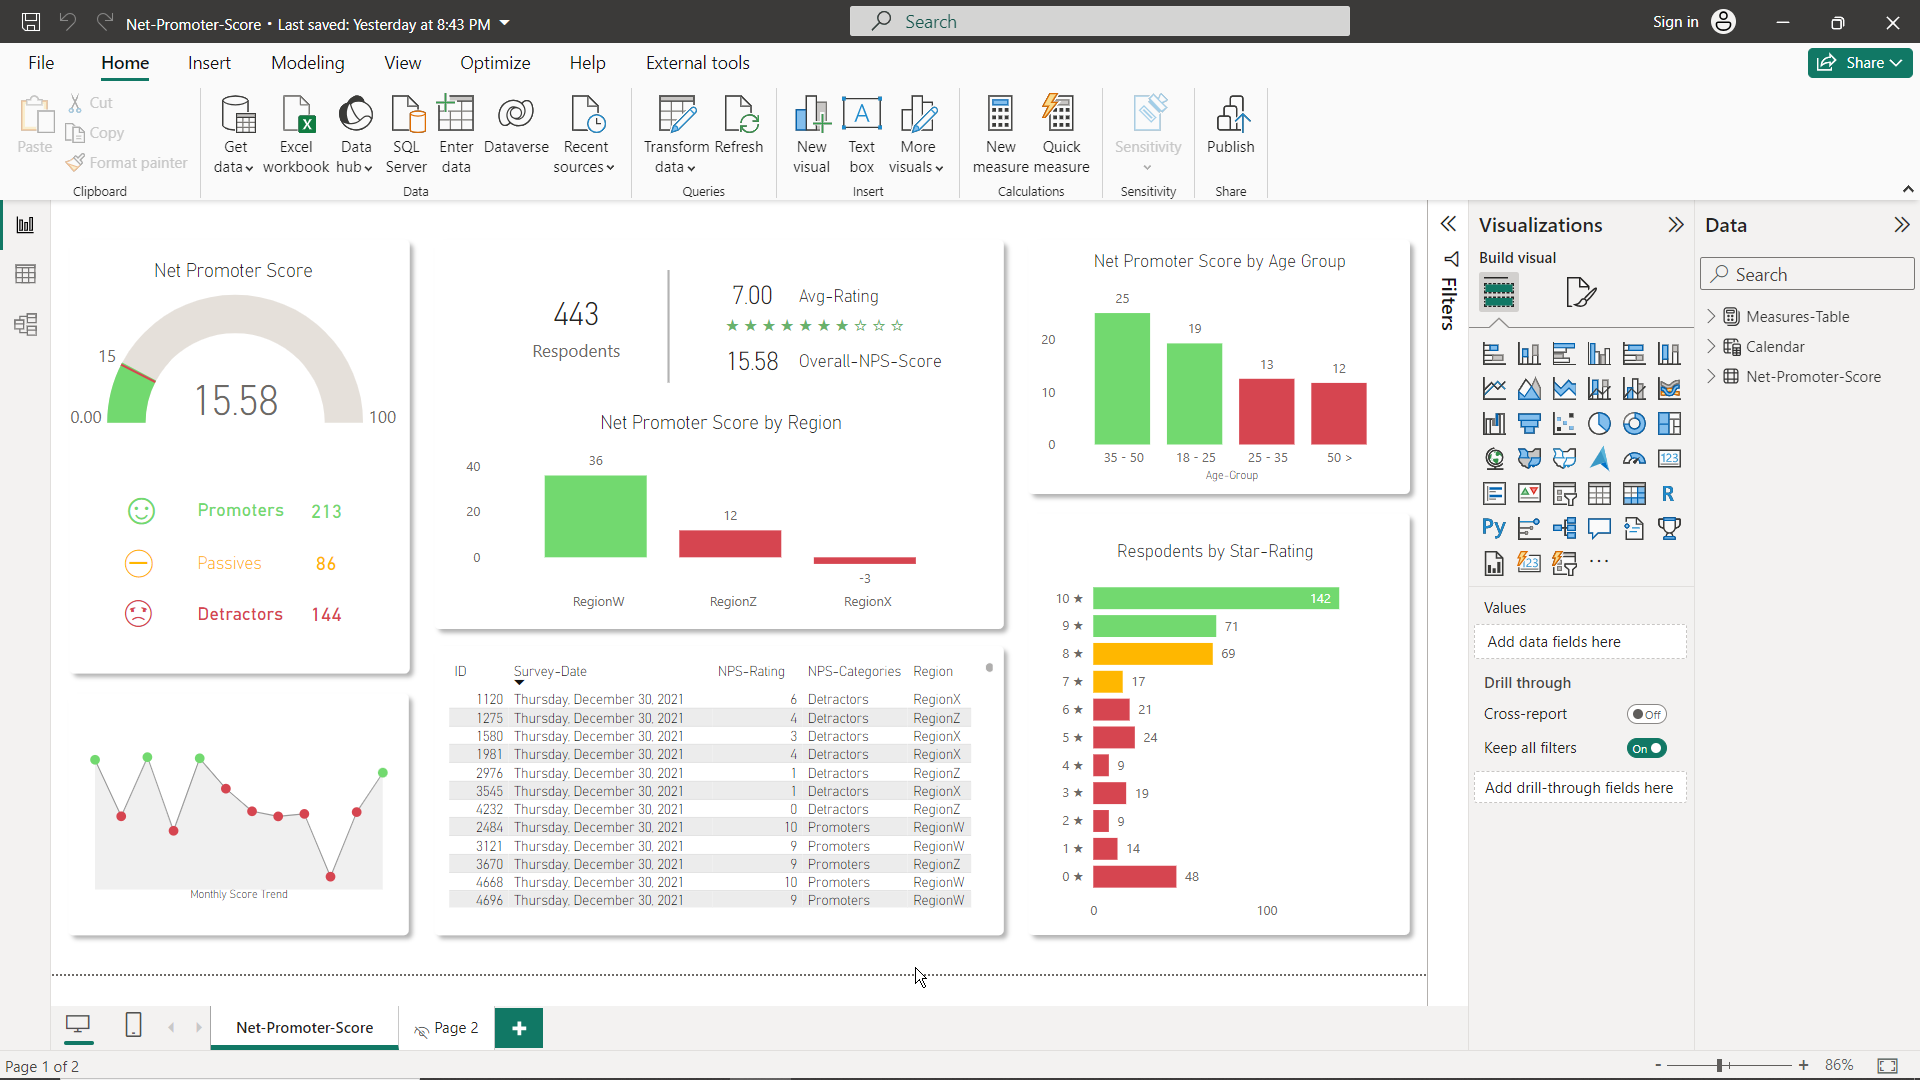

What the dashboard file says about the page in this screenshot:
{"tool":"powerbi","page":{"name":"Net-Promoter-Score","canvas":[1280,720],"ordinal":0},"visuals":[{"type":"group","id":"g1","title":"Group 9","box":[6.9,27.4,335.7,665.2],"z":0},{"type":"group","id":"g2","title":"Group 1","box":[131.4,365.3,158,39.2],"z":0,"group":"g10"},{"type":"card","fields":{"Values":["Measures-Table.Detractors"]},"box":[223.5,365.3,65.9,39.2],"z":0,"group":"g2"},{"type":"shape","box":[347.5,405.3,547.7,287.2],"z":0,"group":"g3"},{"type":"group","id":"g3","title":"Group 10","box":[347.5,27.4,547.7,665.1],"z":1000},{"type":"shape","box":[899.8,27.4,373.3,254.7],"z":1000,"group":"g5"},{"type":"card","fields":{"Values":["Measures-Table.Promoters"]},"box":[223.1,269.3,66.4,40],"z":1000,"group":"g6"},{"type":"group","id":"g4","title":"Group 2","box":[131.4,317.7,158,39.2],"z":1000,"group":"g10"},{"type":"textbox","box":[131.4,368.3,100.5,33.1],"z":1000,"group":"g2"},{"type":"shape","box":[6.9,449.5,334.9,243],"z":1000,"group":"g7"},{"type":"group","id":"g5","title":"Group 11","box":[899.8,27.4,373.3,665.1],"z":2000},{"type":"group","id":"g6","title":"Group 3","box":[131.3,269.3,158.2,40],"z":2000,"group":"g10"},{"type":"shape","box":[899.8,282.1,373,410.1],"z":2000,"group":"g11"},{"type":"card","fields":{"Values":["Measures-Table.Passives"]},"box":[223.5,317.7,65.9,39.2],"z":3000,"group":"g4"},{"type":"tableEx","fields":{"Values":["Net-Promoter-Score.ID","Net-Promoter-Score.Survey date","Net-Promoter-Score.NPS-Rating","Net-Promoter-Score.NPS-Categories","Net-Promoter-Score.Region"]},"box":[361.5,421.6,522.1,241.9],"z":3000,"group":"g3"},{"type":"shape","box":[347.5,27.4,547.7,380.2],"z":4000,"group":"g9"},{"type":"clusteredColumnChart","title":"Net Promoter Score by Age Group","fields":{"Category":["Net-Promoter-Score.Age-Group"],"Y":["Measures-Table.NPS-Score"]},"box":[916.1,46,341.9,220.9],"z":4000,"group":"g5"},{"type":"textbox","box":[131.3,272.7,100.5,33.1],"z":4001,"group":"g6"},{"type":"textbox","box":[131.4,320.7,100.5,33.1],"z":4002,"group":"g4"},{"type":"shape","box":[8,27.4,334.6,421.6],"z":5000,"group":"g8"},{"type":"clusteredBarChart","fields":{"Category":["Net-Promoter-Score.Star-Rating"],"Y":["Measures-Table.Respodents"]},"box":[926.7,315.9,312.8,363.3],"z":5000,"group":"g11"},{"type":"gauge","title":"Net Promoter Score","fields":{"Y":["Measures-Table.NPS-Score"],"TargetValue":["Measures-Table.NPS-Target"],"MaxValue":["Measures-Table.Gauge-Max"]},"box":[7.9,54.2,323.3,162.8],"z":6000,"group":"g8"},{"type":"group","id":"g7","title":"Group 5","box":[6.9,449.5,334.9,243],"z":6000,"group":"g1"},{"type":"group","id":"g8","title":"Group 6","box":[7.9,27.4,334.7,421.6],"z":7000,"group":"g1"},{"type":"areaChart","fields":{"Category":["Calendar.Date.Variation.Date Hierarchy.Month","Calendar.Date.Variation.Date Hierarchy.Day"],"Y":["Measures-Table.NPS-Score"]},"box":[23.2,484.4,301.2,173.2],"z":7000,"group":"g7"},{"type":"group","id":"g9","title":"Group 7","box":[347.5,27.4,547.7,380.2],"z":8000,"group":"g3"},{"type":"group","id":"g10","title":"Group 4","box":[131.3,269.3,158.1,136],"z":8000,"group":"g8"},{"type":"group","id":"g11","title":"Group 8","box":[899.8,282.1,373.3,410.5],"z":8001,"group":"g5"},{"type":"card","fields":{"Values":["Measures-Table.NPS-Avg"]},"box":[600.2,70.5,104.9,32.6],"z":9000,"group":"g9"},{"type":"card","fields":{"Values":["Measures-Table.Respodents"]},"box":[389.2,49.4,198.5,129.4],"z":10000,"group":"g9"},{"type":"clusteredColumnChart","title":"Net Promoter Score by Region","fields":{"Category":["Net-Promoter-Score.Region"],"Y":["Measures-Table.NPS-Score"]},"box":[380.7,196,483.7,195.8],"z":11000,"group":"g9"},{"type":"card","fields":{"Values":["Measures-Table.NPS-Score"]},"box":[600.2,132.2,104.9,32.6],"z":13000,"group":"g9"},{"type":"shape","box":[549,64.7,51.2,104.8],"z":16000,"group":"g9"},{"type":"multiRowCard","fields":{"Values":["Measures-Table.Star-Rating-Bar"]},"box":[622.2,103.1,189,53.6],"z":17000,"group":"g9"},{"type":"card","fields":{"Values":["Measures-Table.Rating"]},"box":[39.3,351.9,83.7,65.1],"z":18000,"group":"g8"},{"type":"card","fields":{"Values":["Measures-Table.Promoter-Icon"]},"box":[47.4,269.3,73.3,50],"z":19000,"group":"g8"},{"type":"card","fields":{"Values":["Measures-Table.Passive-Icon"]},"box":[50.7,309.6,61,56],"z":20000,"group":"g8"},{"type":"textbox","box":[690.5,73.6,136.6,30.3],"z":21000,"group":"g9"},{"type":"textbox","box":[690.5,134.7,178.1,30.3],"z":22000,"group":"g9"}]}

Visuals, with their boxes on the page's 1280x720 design canvas (x1, y1, x2, y2). These are canvas units, not pixel positions in the 1920x1080 screenshot, which may show the page scaled, cropped or inside an application window:
"Group 9" group: x1=7, y1=27, x2=343, y2=693
"Group 1" group: x1=131, y1=365, x2=289, y2=404
card - Measures-Table.Detractors: x1=224, y1=365, x2=289, y2=404
shape: x1=348, y1=405, x2=895, y2=692
"Group 10" group: x1=348, y1=27, x2=895, y2=692
shape: x1=900, y1=27, x2=1273, y2=282
card - Measures-Table.Promoters: x1=223, y1=269, x2=290, y2=309
"Group 2" group: x1=131, y1=318, x2=289, y2=357
textbox: x1=131, y1=368, x2=232, y2=401
shape: x1=7, y1=450, x2=342, y2=692
"Group 11" group: x1=900, y1=27, x2=1273, y2=692
"Group 3" group: x1=131, y1=269, x2=290, y2=309
shape: x1=900, y1=282, x2=1273, y2=692
card - Measures-Table.Passives: x1=224, y1=318, x2=289, y2=357
tableEx - Net-Promoter-Score.ID x Net-Promoter-Score.Survey date: x1=362, y1=422, x2=884, y2=664
shape: x1=348, y1=27, x2=895, y2=408
"Net Promoter Score by Age Group" clusteredColumnChart: x1=916, y1=46, x2=1258, y2=267
textbox: x1=131, y1=273, x2=232, y2=306
textbox: x1=131, y1=321, x2=232, y2=354
shape: x1=8, y1=27, x2=343, y2=449
clusteredBarChart - Net-Promoter-Score.Star-Rating x Measures-Table.Respodents: x1=927, y1=316, x2=1240, y2=679
"Net Promoter Score" gauge: x1=8, y1=54, x2=331, y2=217
"Group 5" group: x1=7, y1=450, x2=342, y2=692
"Group 6" group: x1=8, y1=27, x2=343, y2=449
areaChart - Calendar.Date.Variation.Date Hierarchy.Month x Calendar.Date.Variation.Date Hierarchy.Day: x1=23, y1=484, x2=324, y2=658
"Group 7" group: x1=348, y1=27, x2=895, y2=408
"Group 4" group: x1=131, y1=269, x2=289, y2=405
"Group 8" group: x1=900, y1=282, x2=1273, y2=693
card - Measures-Table.NPS-Avg: x1=600, y1=70, x2=705, y2=103
card - Measures-Table.Respodents: x1=389, y1=49, x2=588, y2=179
"Net Promoter Score by Region" clusteredColumnChart: x1=381, y1=196, x2=864, y2=392
card - Measures-Table.NPS-Score: x1=600, y1=132, x2=705, y2=165
shape: x1=549, y1=65, x2=600, y2=170
multiRowCard - Measures-Table.Star-Rating-Bar: x1=622, y1=103, x2=811, y2=157
card - Measures-Table.Rating: x1=39, y1=352, x2=123, y2=417
card - Measures-Table.Promoter-Icon: x1=47, y1=269, x2=121, y2=319
card - Measures-Table.Passive-Icon: x1=51, y1=310, x2=112, y2=366
textbox: x1=690, y1=74, x2=827, y2=104
textbox: x1=690, y1=135, x2=869, y2=165
